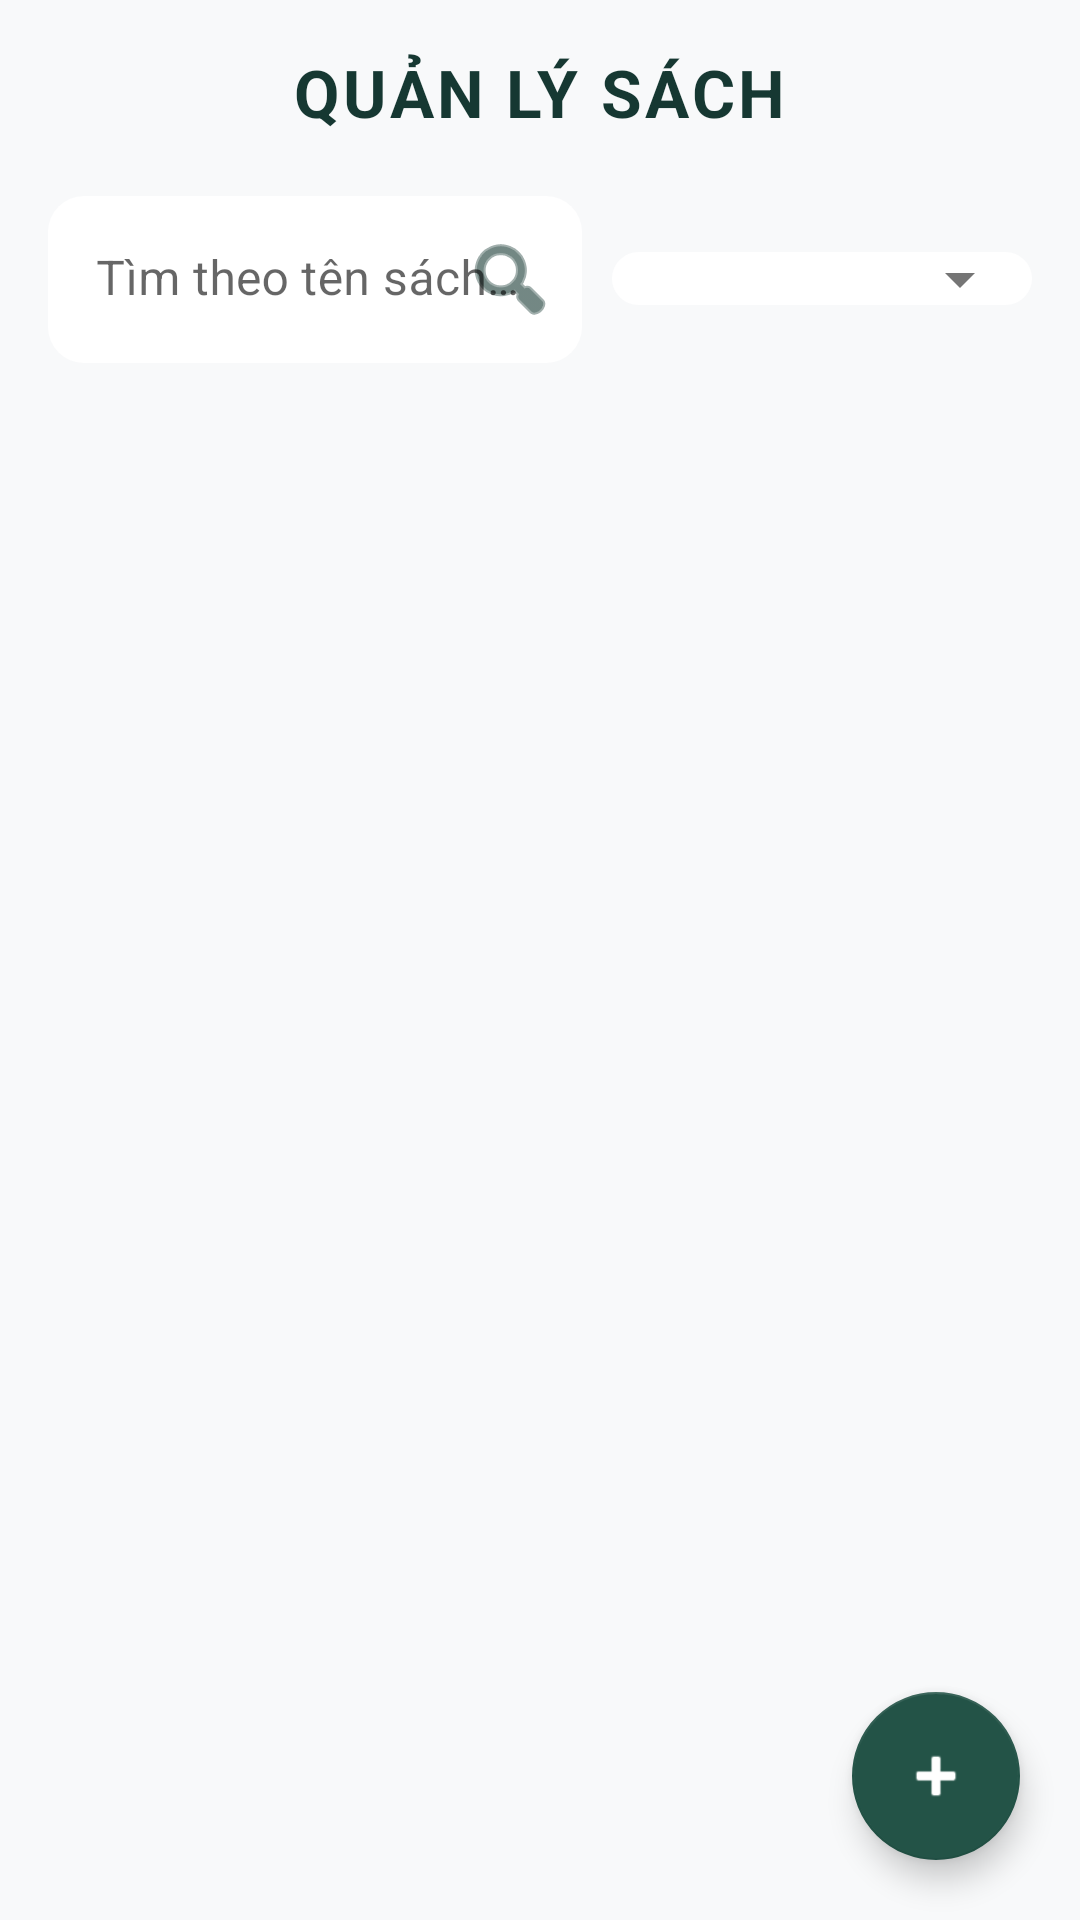

Screen size 1080 × 1920. Icon name, then its box in pixels as region(x1, y1, x2, y2):
Thêm sách mới: region(852, 1692, 1020, 1860)
